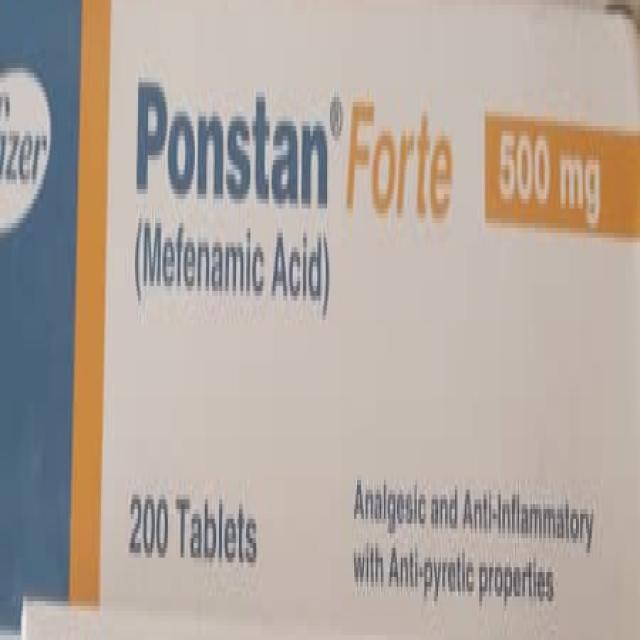drug-name: (125, 78, 462, 220)
